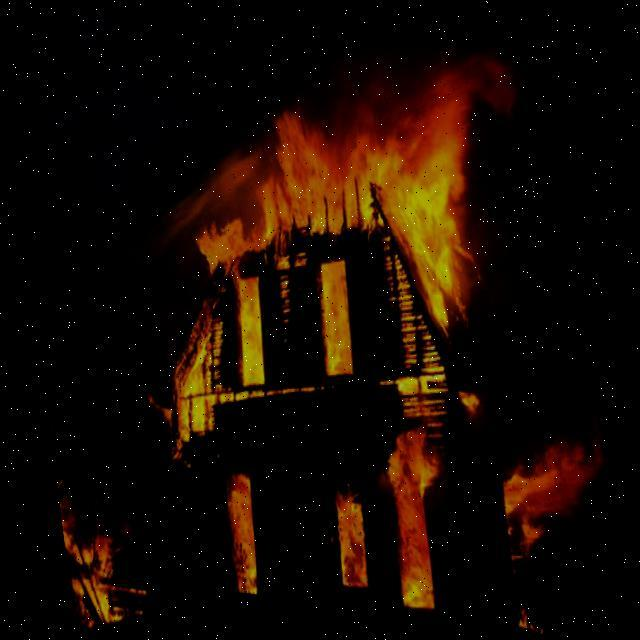Fire: (122, 33, 514, 460), (478, 392, 612, 639), (46, 478, 134, 632), (371, 446, 427, 608), (208, 459, 252, 602), (318, 472, 357, 591)
